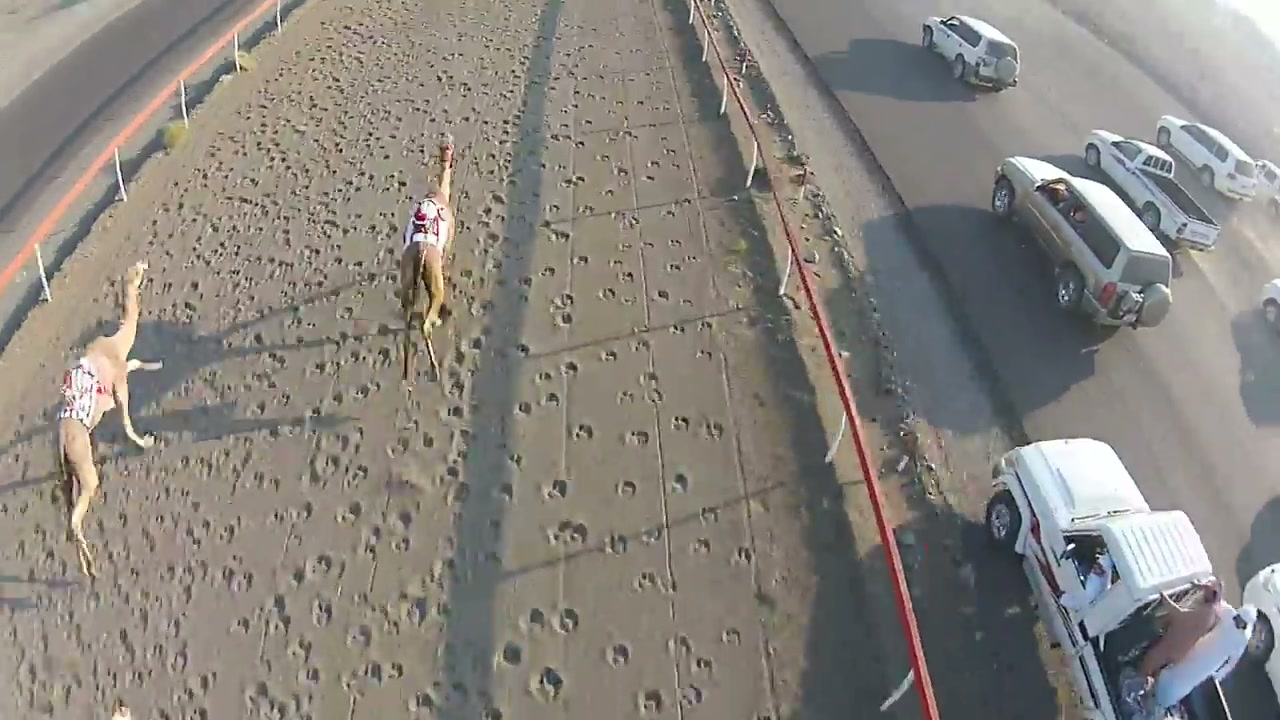animal_footprint: (31, 0, 808, 719), (531, 666, 564, 701), (606, 642, 630, 667), (499, 641, 523, 666)
